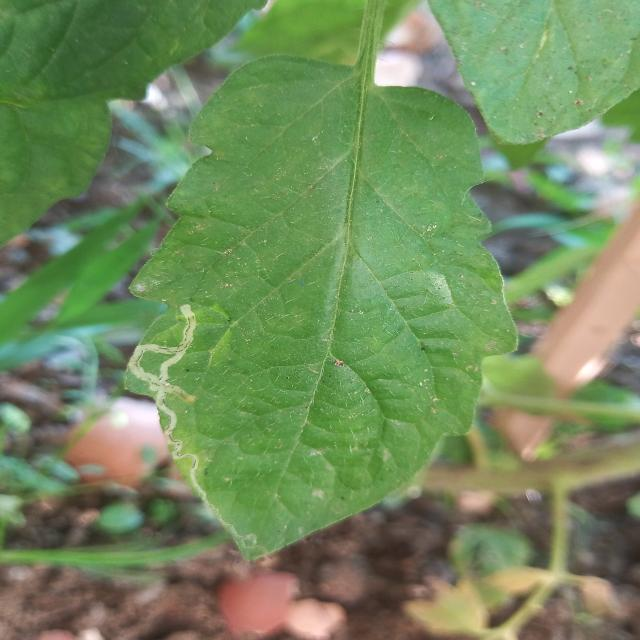Tuta absoluta: (126, 302, 199, 460), (186, 454, 207, 503)
